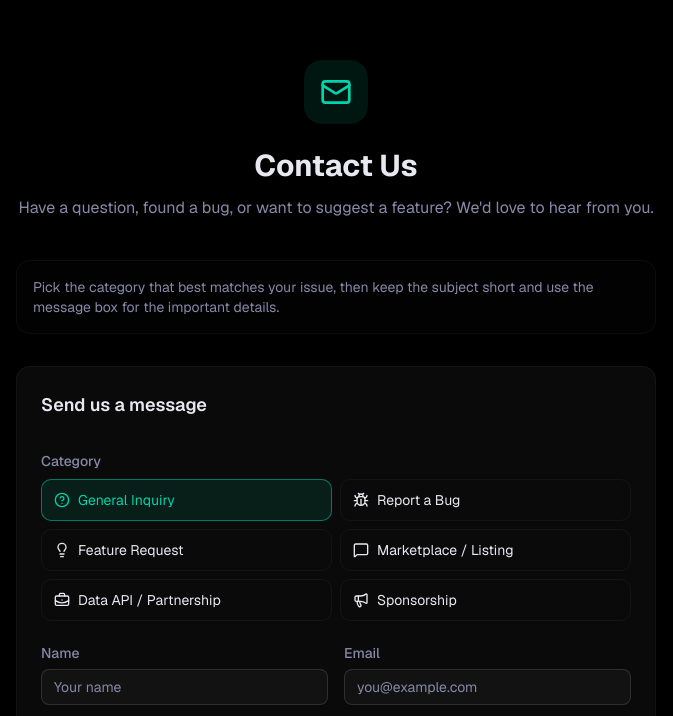
Scenario: ContactContent › submits the public contact form and shows the success state
Type "Harshit" into the field labelled "Name" at point(184, 687), box [41,669,328,705]
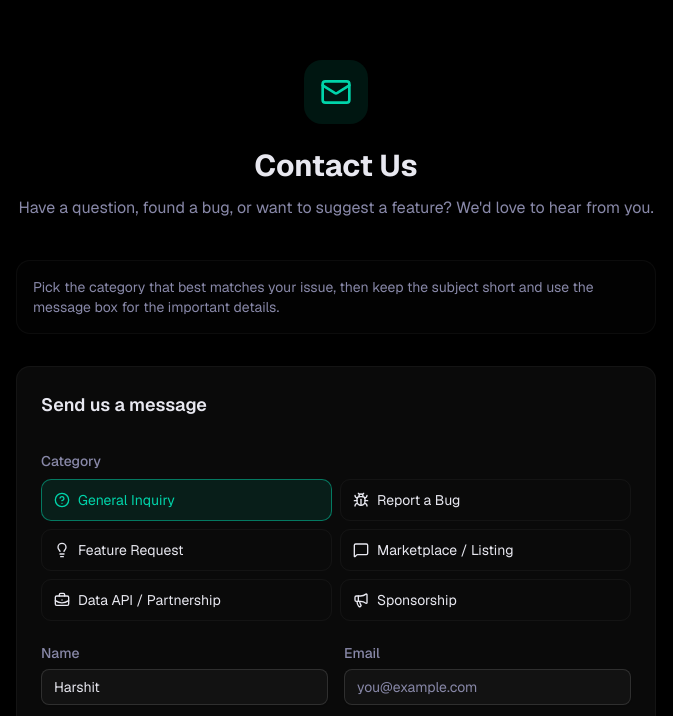
Type "harshit@example.com" into the field labelled "Email" at point(488, 687), box [344,669,631,705]
(page scrolled)
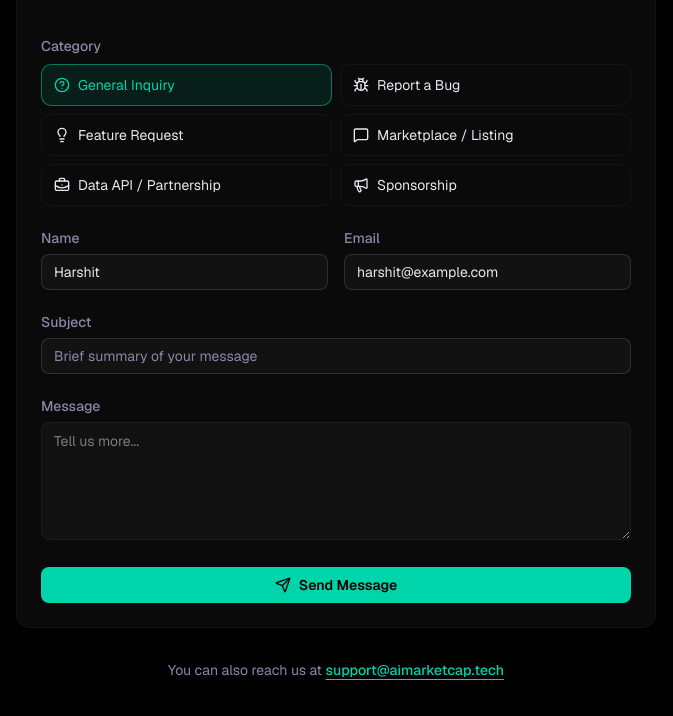
Type "Need help" into the field labelled "Subject" at point(336, 356), box [41,338,631,374]
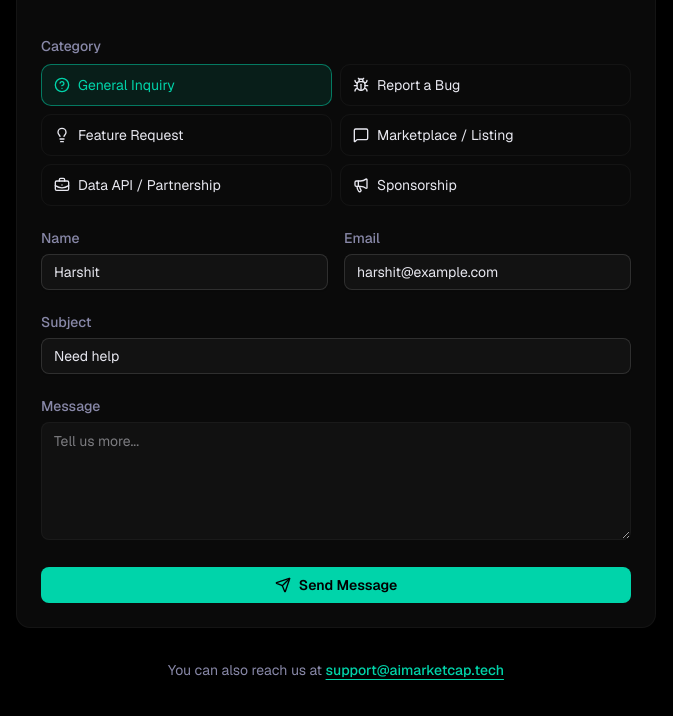
Type "Need help with the site." into the text box labelled "Message" at point(336, 481), box [41,422,631,540]
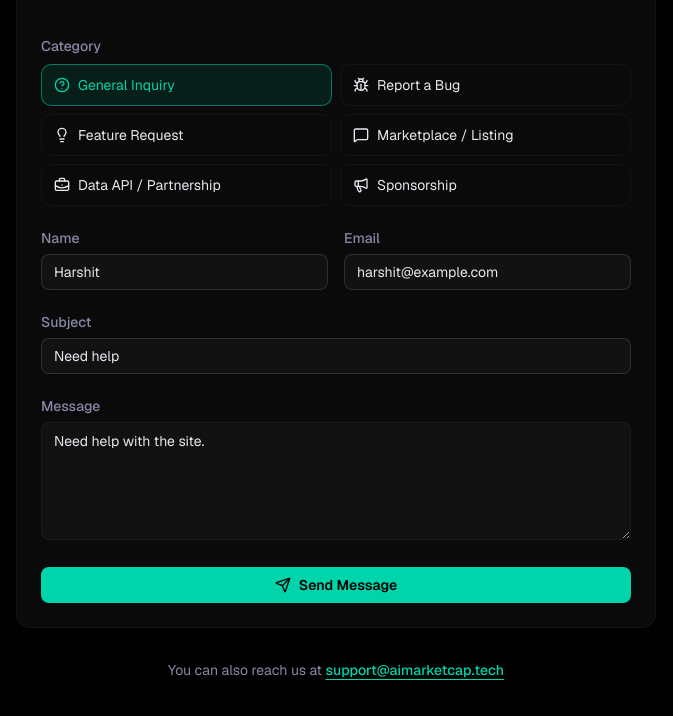
Click the button "Send Message" at point(336, 585), box [41,567,631,603]
(page scrolled)
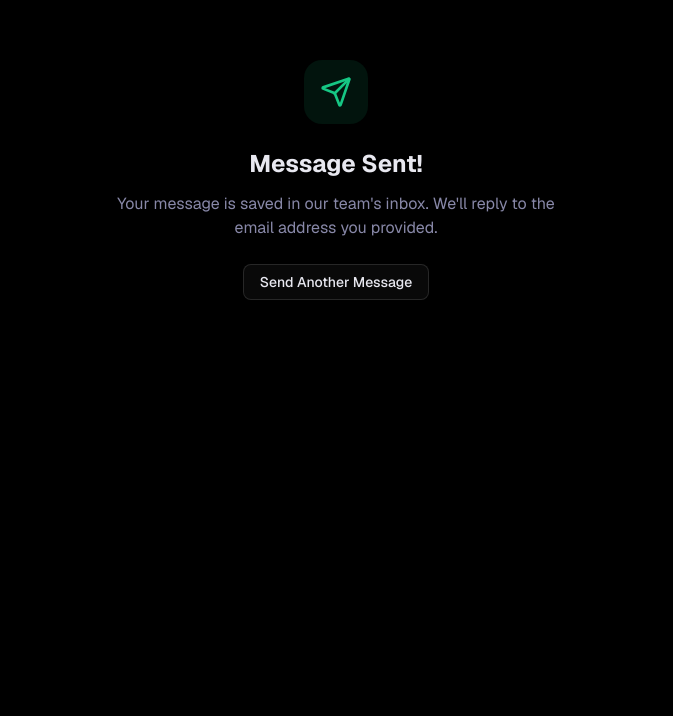
Expected: the heading "Message Sent!" is shown, [249,148,423,180]
